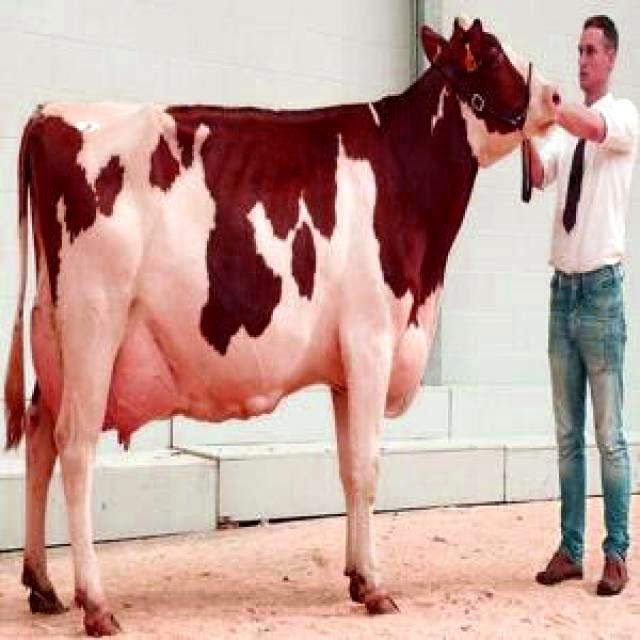COW: (5, 20, 559, 637)
